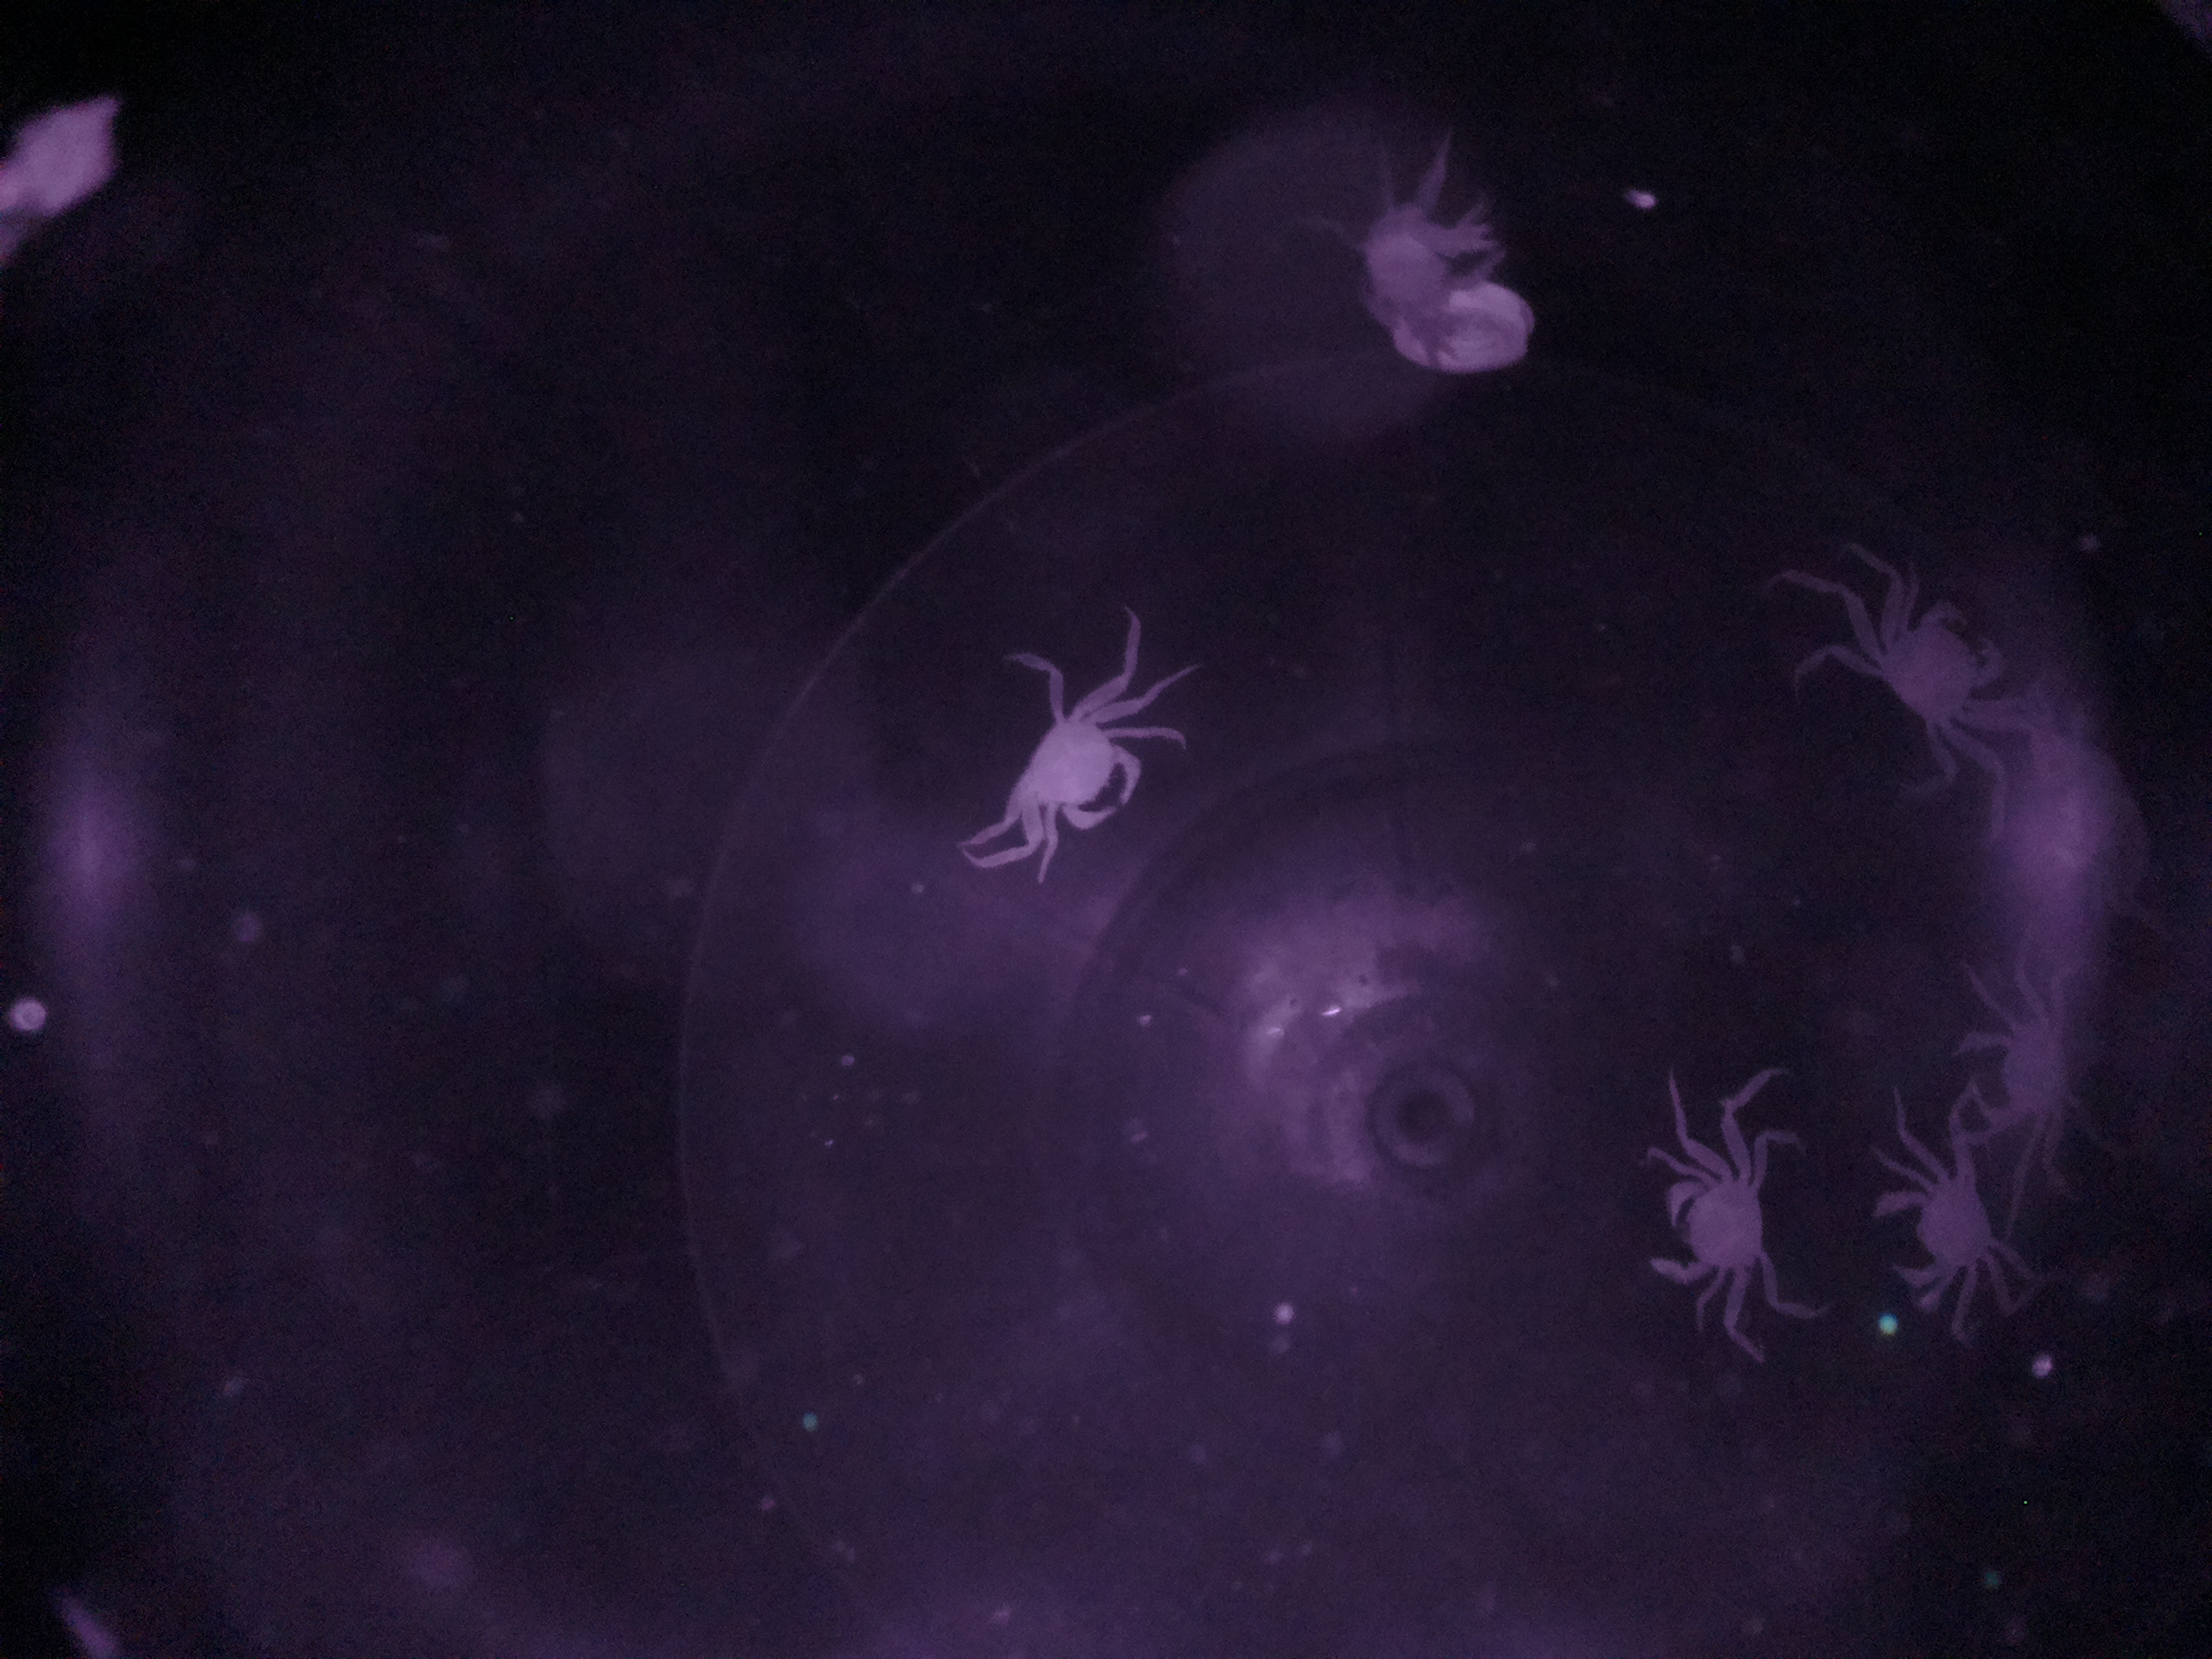Crab: (1857, 570, 2027, 774), (1862, 1140, 2026, 1316), (1622, 1141, 1784, 1316), (993, 683, 1155, 849)
